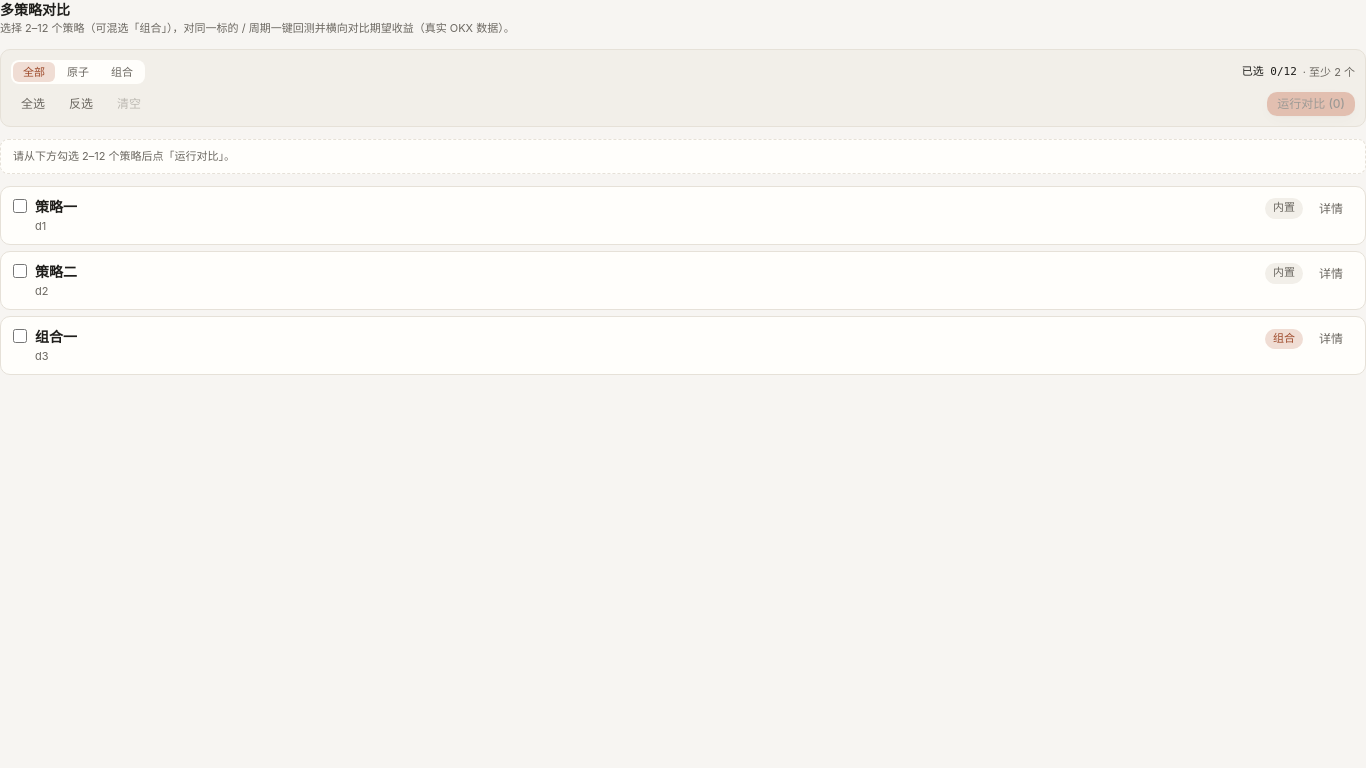
CompareView › opening a row's detail does not change the selection
This screenshot has width=1366, height=768.
Expected: the text "策略一" is shown, [35,196,77,216]
Click the button "详情" in the row of "策略一" at (1331,208), box [1309,196,1353,220]
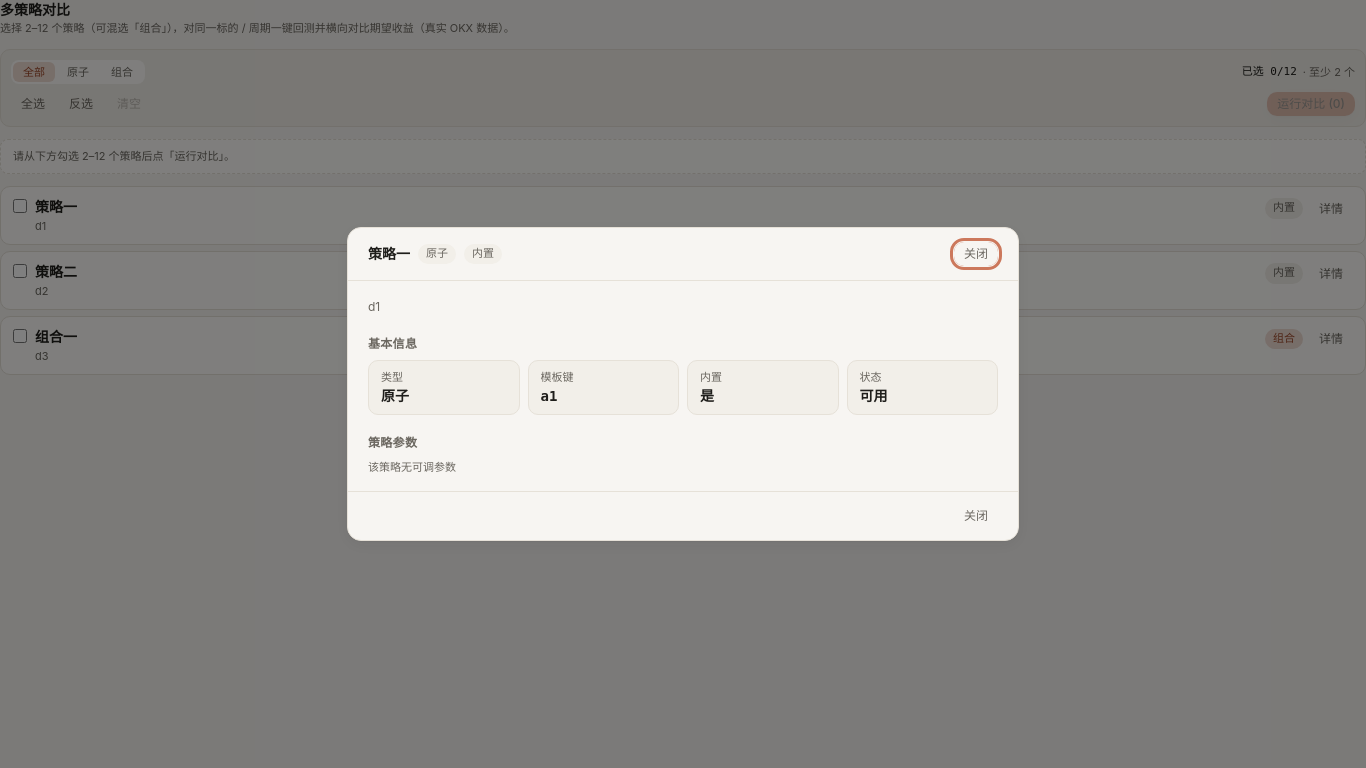
Expected: the text "已选 0/12" is shown, [1242,64,1297,80]
Expected: the dialog is shown, [347,227,1019,541]
